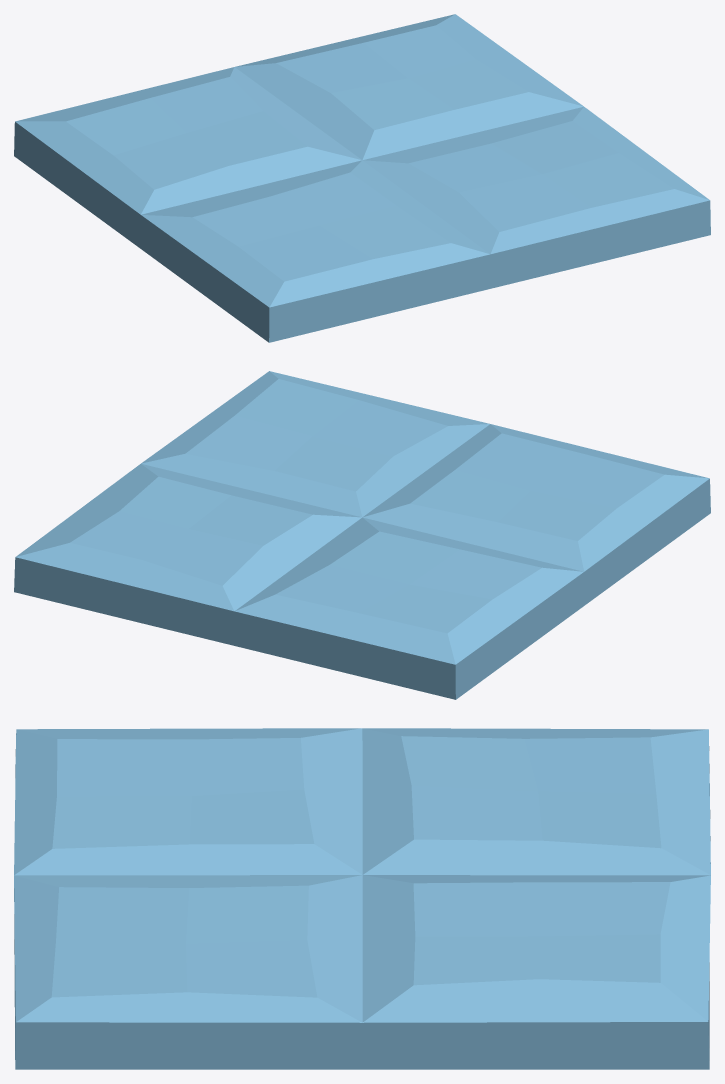
Rendered from bricks style 2.fbx.
3 views of the same model, one above another, from view 1: azimuth 30°, elevation 25°; view 2: azimuth 150°, elevation 25°; view 3: azimuth 270°, elevation 25° (orthographic). The views are drawn at different scales.
Parts seen in each view (by area): view 1: Cube.035; view 2: Cube.035; view 3: Cube.035.
Part boxes in pixels (bbox=[...]): Cube.035: bbox=[14, 14, 710, 342]; Cube.035: bbox=[14, 371, 710, 699]; Cube.035: bbox=[14, 728, 710, 1069].
Bounding box in the file's own units: 300 × 30 × 300.
